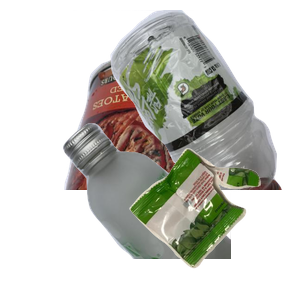glass: (60, 120, 300, 300)
metal: (62, 47, 300, 227)
plastic: (73, 10, 300, 190)
trash: (127, 146, 300, 300)
